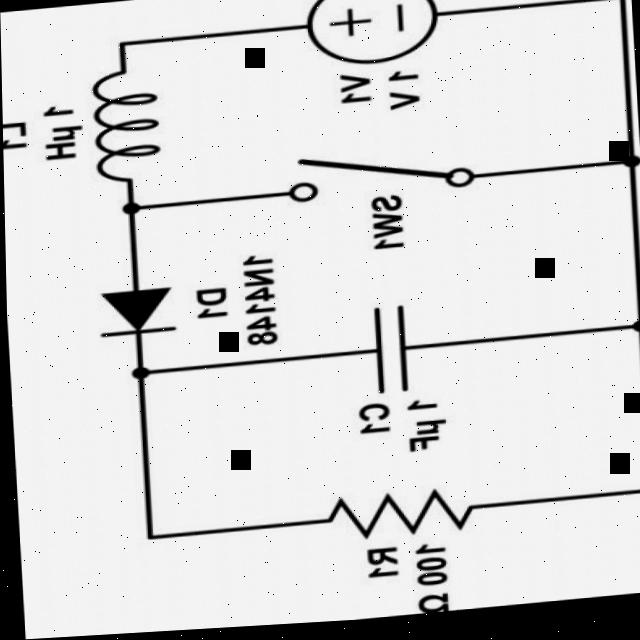capacitor: (333, 294, 446, 405)
diode: (71, 268, 188, 355)
inductor: (67, 54, 178, 199)
node: (120, 358, 155, 385), (613, 153, 640, 182), (113, 197, 146, 217), (616, 318, 640, 343)
resistor: (303, 473, 515, 561)
source: (292, 0, 456, 80)
switch: (262, 134, 485, 226)
